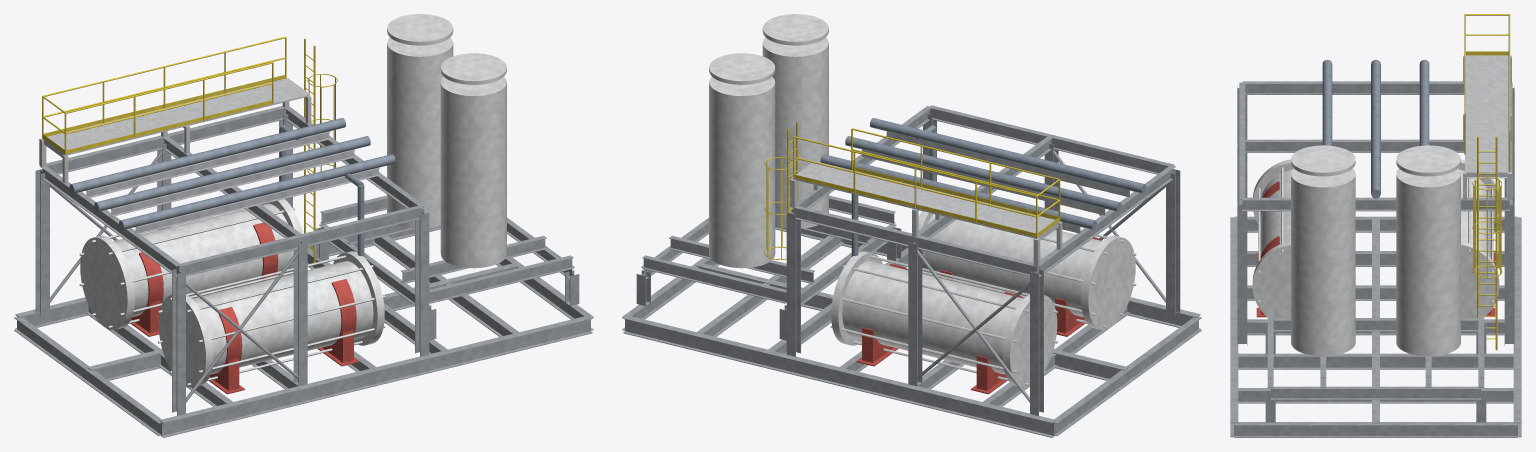
Rendered from electrolyser-stack-frames.glb.
The picture shows the model from 3 angles, left to right: view 1: azimuth 30°, elevation 25°; view 2: azimuth 150°, elevation 25°; view 3: azimuth 270°, elevation 25°; orthographic projection.
Visible parts, largest first — view 1: ElectrolyserStacks(context), Separators(context), ModuleFrame, SkidBase, Headers(context), SeparatorStand, PipeSupports, Handrails&Ladder, AccessPlatform, StackCradles; view 2: ElectrolyserStacks(context), Separators(context), ModuleFrame, SkidBase, Headers(context), SeparatorStand, Handrails&Ladder, AccessPlatform, PipeSupports, StackCradles; view 3: Separators(context), SkidBase, ModuleFrame, ElectrolyserStacks(context), SeparatorStand, AccessPlatform, Handrails&Ladder, Headers(context), StackCradles.
Boxes of the visible parts, bbox=[...] form: ElectrolyserStacks(context): bbox=[79, 199, 385, 387]; Separators(context): bbox=[387, 14, 506, 268]; ModuleFrame: bbox=[35, 106, 429, 416]; SkidBase: bbox=[14, 226, 593, 437]; Headers(context): bbox=[69, 118, 395, 256]; SeparatorStand: bbox=[315, 195, 579, 340]; PipeSupports: bbox=[86, 131, 380, 234]; Handrails&Ladder: bbox=[42, 36, 337, 262]; AccessPlatform: bbox=[39, 78, 311, 183]; StackCradles: bbox=[130, 222, 359, 394]; ElectrolyserStacks(context): bbox=[830, 211, 1136, 387]; Separators(context): bbox=[709, 14, 828, 268]; ModuleFrame: bbox=[786, 105, 1180, 416]; SkidBase: bbox=[622, 226, 1201, 437]; Headers(context): bbox=[820, 118, 1146, 256]; SeparatorStand: bbox=[636, 195, 901, 340]; Handrails&Ladder: bbox=[764, 121, 1060, 259]; AccessPlatform: bbox=[790, 161, 1062, 266]; PipeSupports: bbox=[862, 131, 1131, 233]; StackCradles: bbox=[856, 237, 1101, 394]; Separators(context): bbox=[1291, 145, 1460, 356]; SkidBase: bbox=[1230, 216, 1521, 437]; ModuleFrame: bbox=[1237, 81, 1514, 345]; ElectrolyserStacks(context): bbox=[1252, 159, 1499, 317]; SeparatorStand: bbox=[1265, 308, 1486, 424]; AccessPlatform: bbox=[1463, 55, 1511, 199]; Handrails&Ladder: bbox=[1464, 14, 1510, 350]; Headers(context): bbox=[1322, 59, 1429, 198]; StackCradles: bbox=[1256, 181, 1495, 317].
Bounding box in the file's own units: 12.21 × 6.65 × 7.2.
7 materials, 7 textured.
